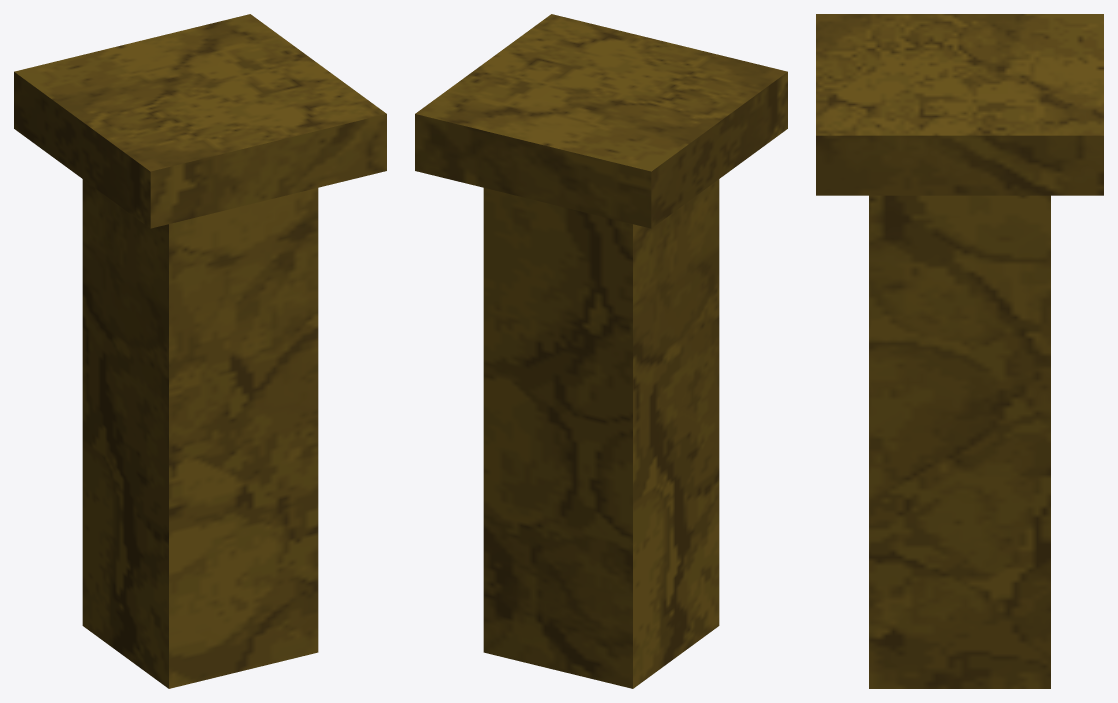
Rendered from SM_TempleCOLUMN.fbx.
The picture shows the model from 3 angles, left to right: view 1: azimuth 30°, elevation 25°; view 2: azimuth 150°, elevation 25°; view 3: azimuth 270°, elevation 25°; orthographic projection. The views are drawn at different scales.
Visible parts, largest first — view 1: SM_Temple_Column; view 2: SM_Temple_Column; view 3: SM_Temple_Column.
Part boxes in pixels (x1,y1,x2,y2): SM_Temple_Column: [14, 14, 386, 688]; SM_Temple_Column: [415, 14, 787, 688]; SM_Temple_Column: [816, 14, 1103, 688].
Bounding box in the file's own units: 598 × 1323 × 598.
1 material, 1 textured.
